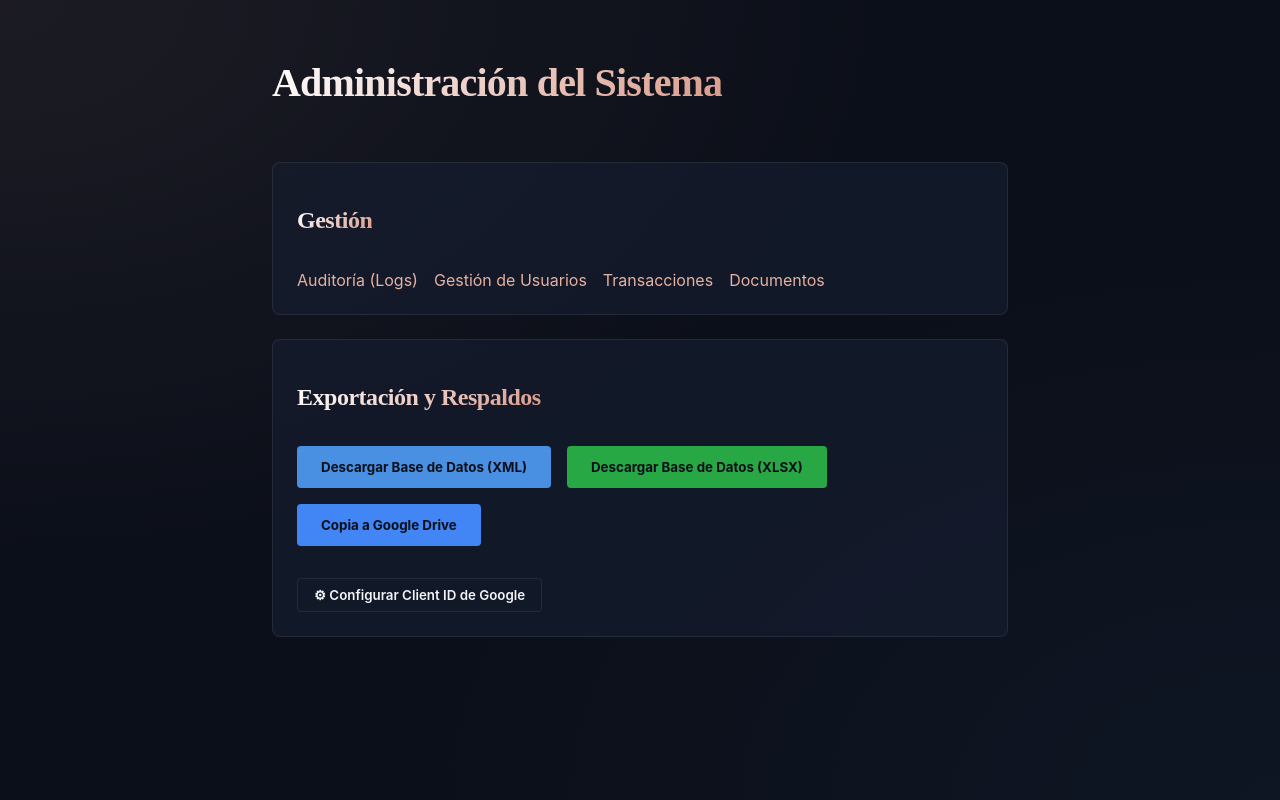
anuncios del estado del respaldo › un éxito se escribe en la región de estado ya montada
The image size is (1280, 800).
Click the button "Descargar Base de Datos (XML)": (424, 467) [297,446,551,488]
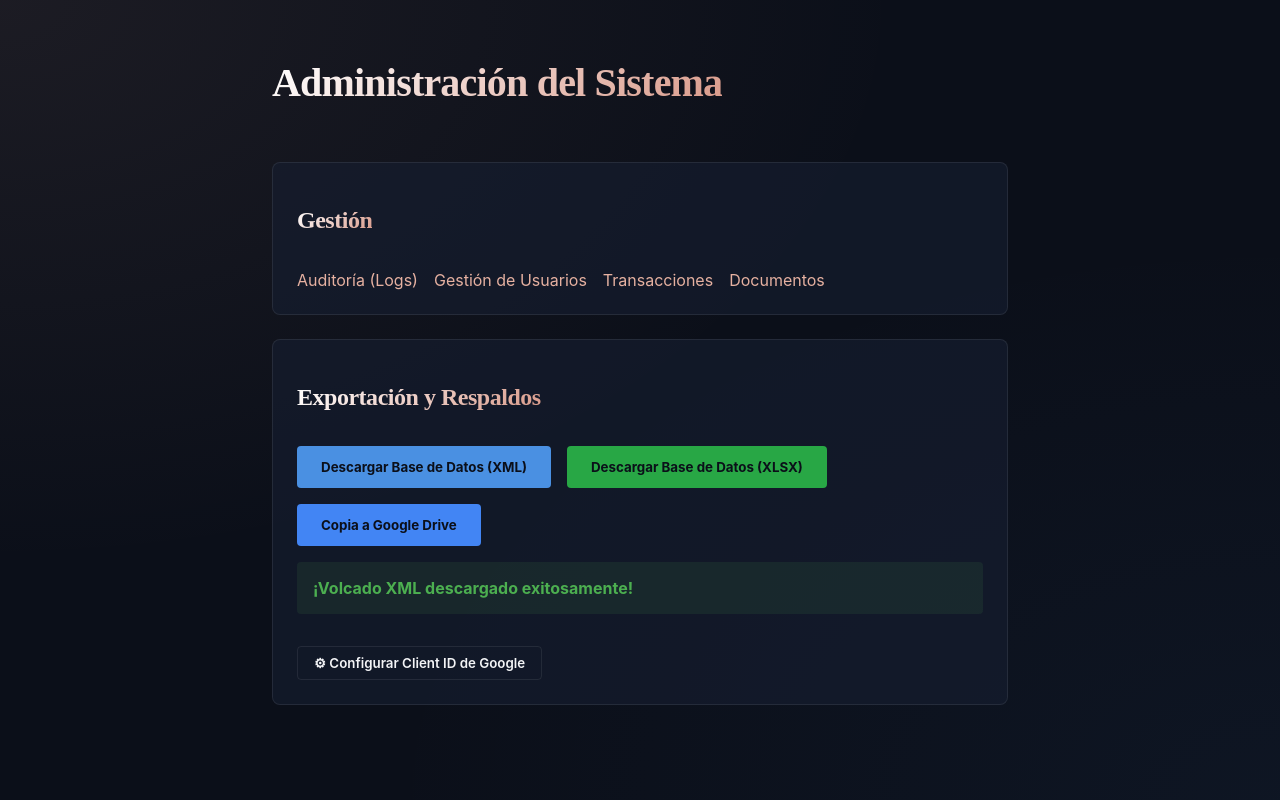
expect the element showing "¡Volcado XML descargado exitosamente!" is shown: met, box [297,546,983,614]
